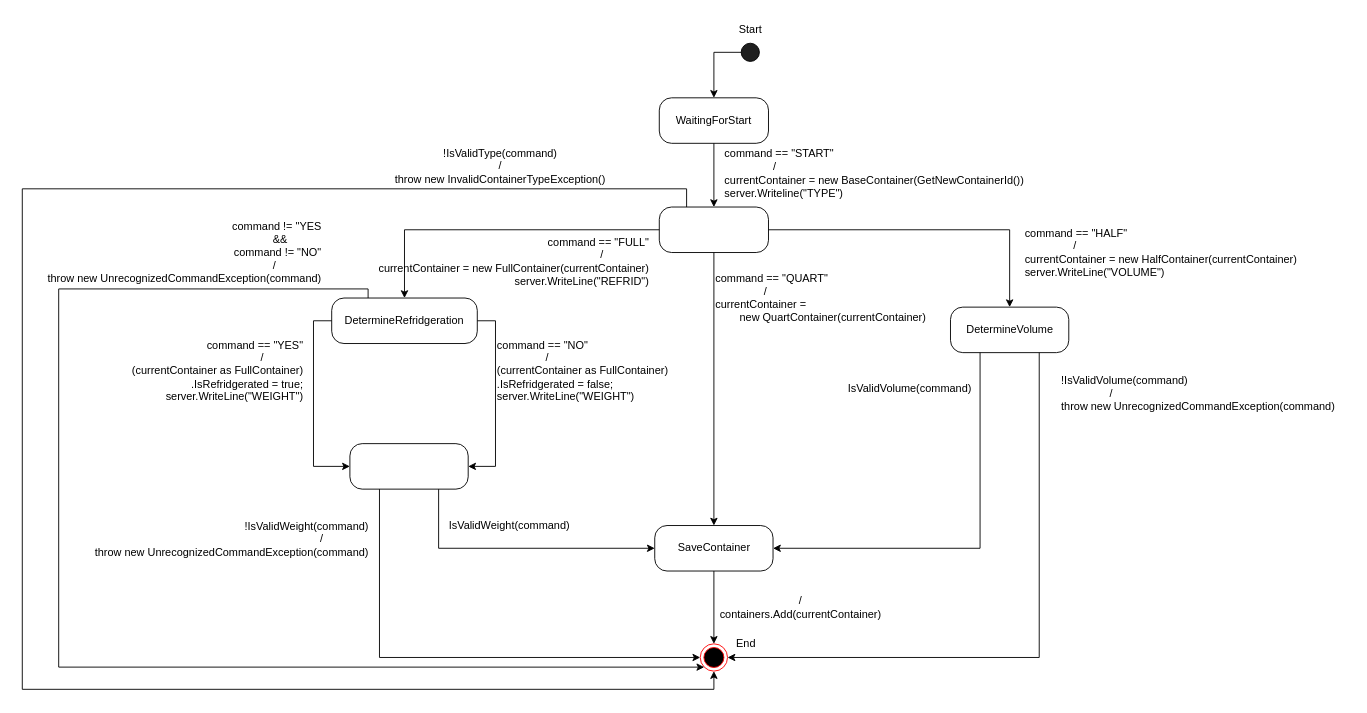
This 1367x713 diagram has some shape labels left out. Here are the shapes that lost their labels. From the top down, the box of each, then its label:
(658, 206, 768, 253): DetermineType
(349, 443, 468, 489): DetermineWeight
